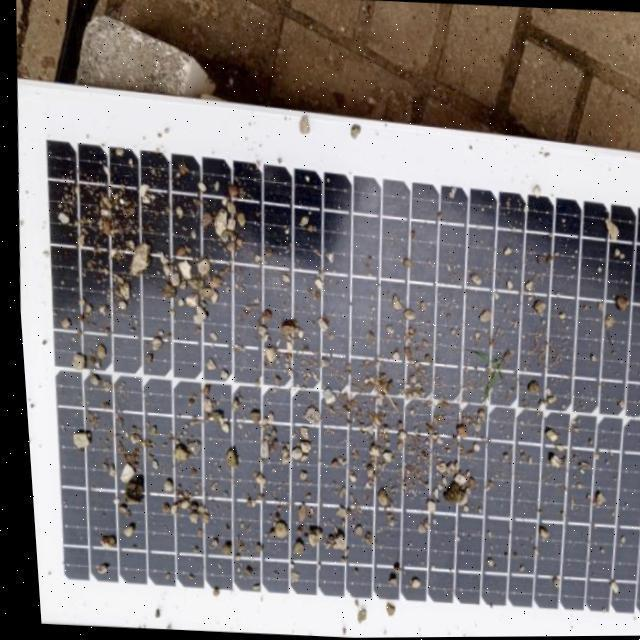Surface Contaminant: (34, 153, 640, 632)
